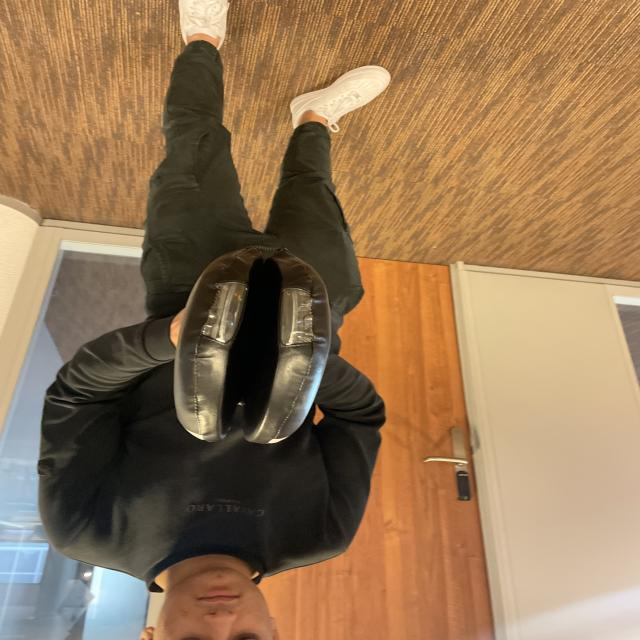paddle: (175, 242, 327, 445)
